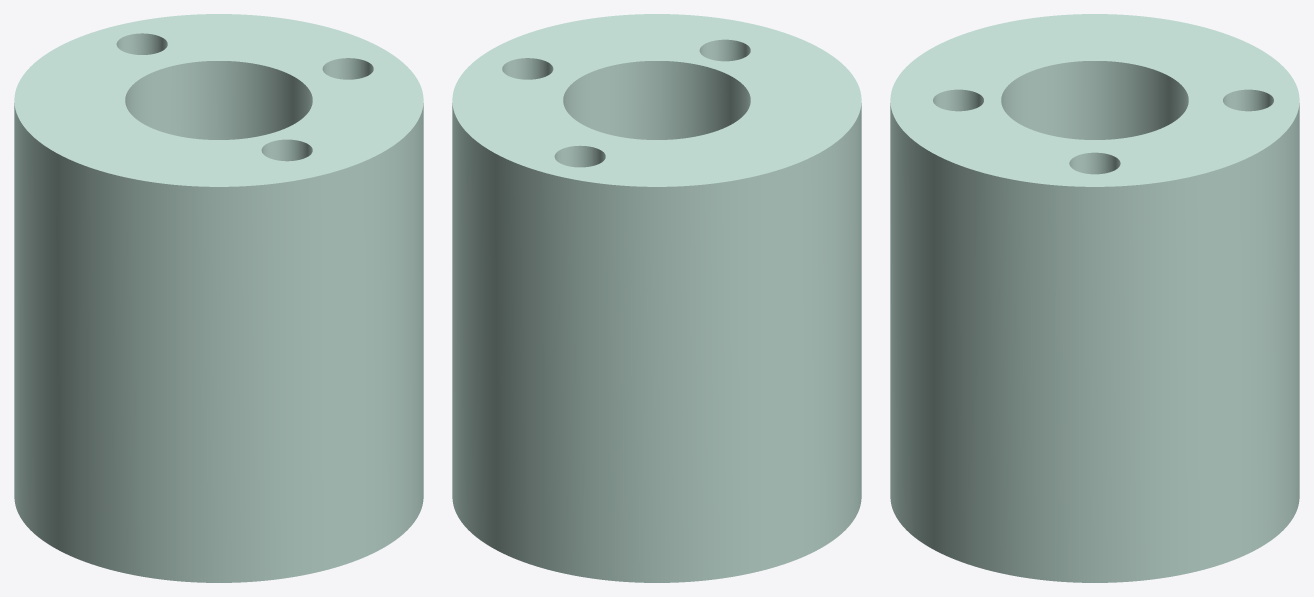
3 views of the same model, side by side, from view 1: azimuth 30°, elevation 25°; view 2: azimuth 150°, elevation 25°; view 3: azimuth 270°, elevation 25° (orthographic).
Parts seen in each view (by area): view 1: Renderer Node; view 2: Renderer Node; view 3: Renderer Node.
Part boxes in pixels (<box>): Renderer Node: <box>14,14,423,582</box>; Renderer Node: <box>452,14,861,582</box>; Renderer Node: <box>890,14,1299,582</box>.
Size of the model in its own units: 0.5998 by 0.6406 by 0.6.
